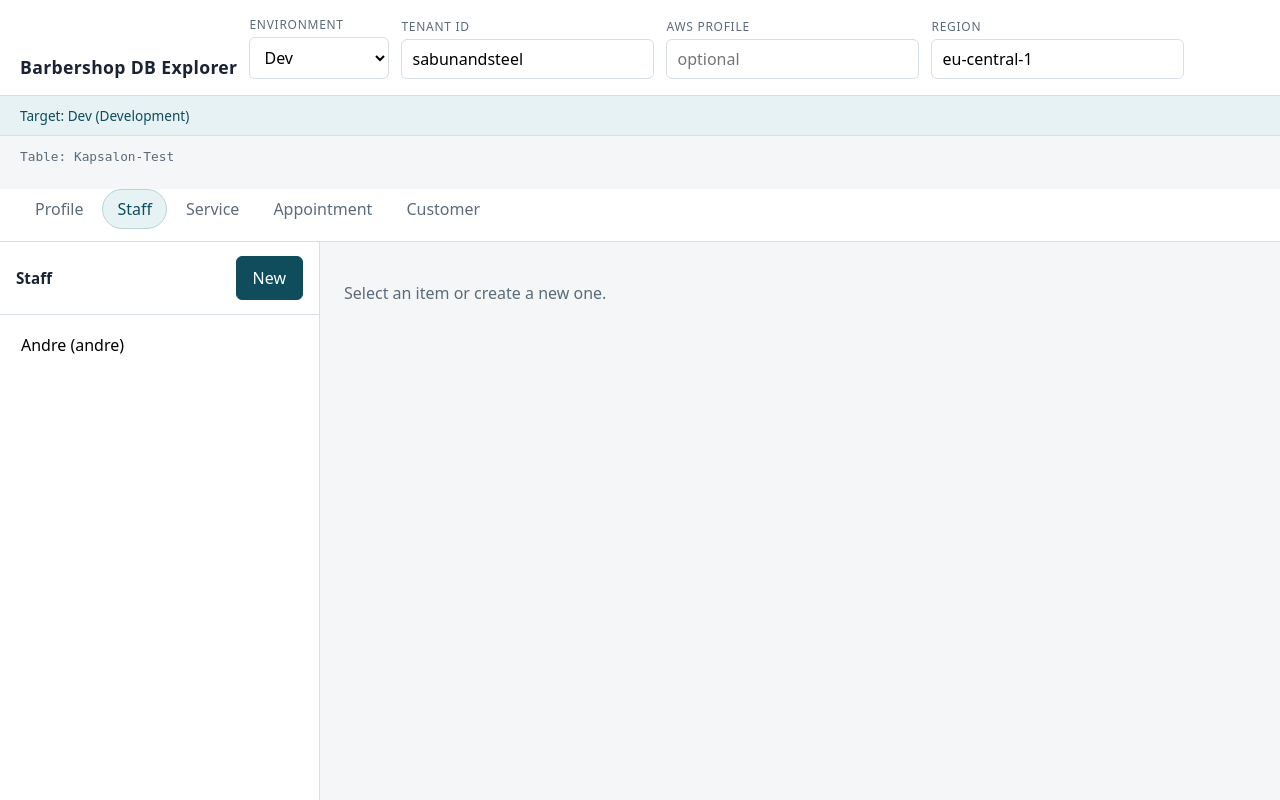
Scenario: App › populates the form with the selected staff member's real data, not stale defaults
Click the button "Andre (andre)" at (73, 345), box [8,323,311,367]
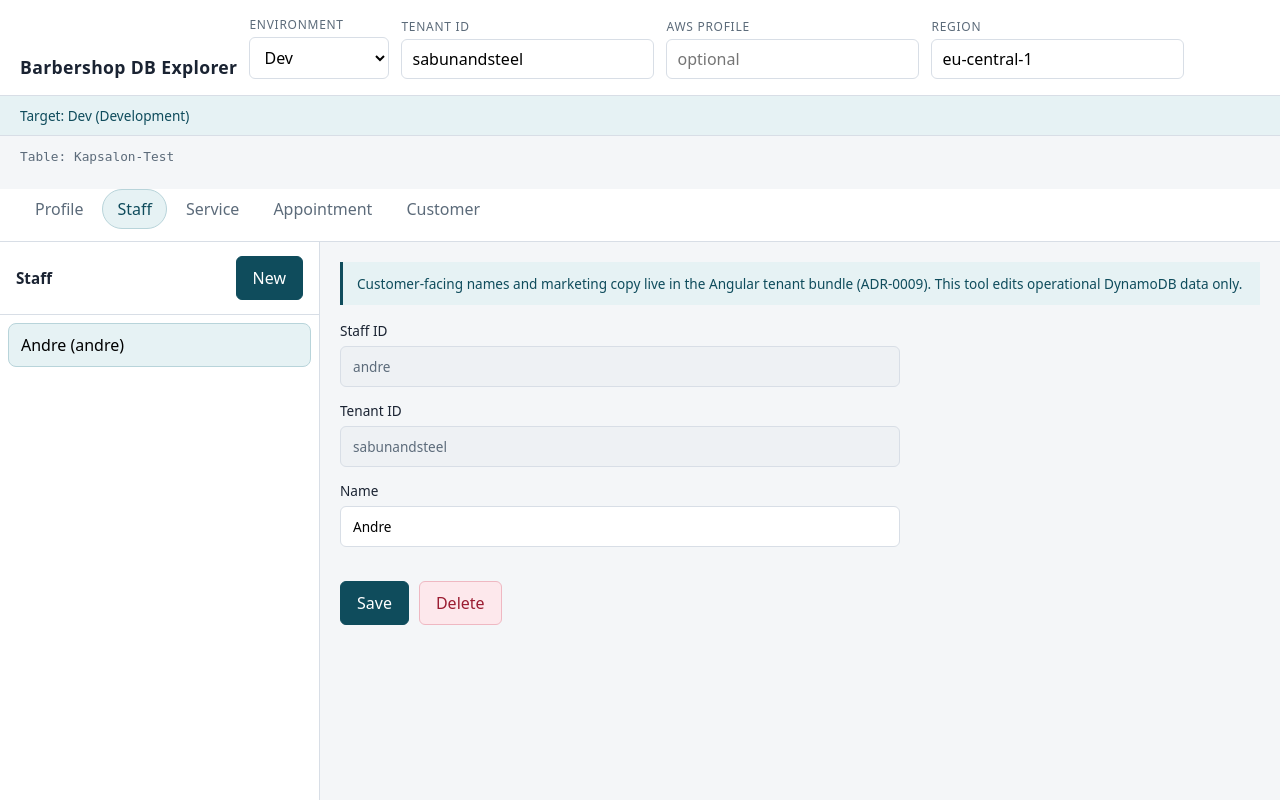
expect the field labelled "Staff ID" holds "andre": met, box [340,346,900,387]
expect the field labelled "Name" holds "Andre": met, box [340,506,900,547]
